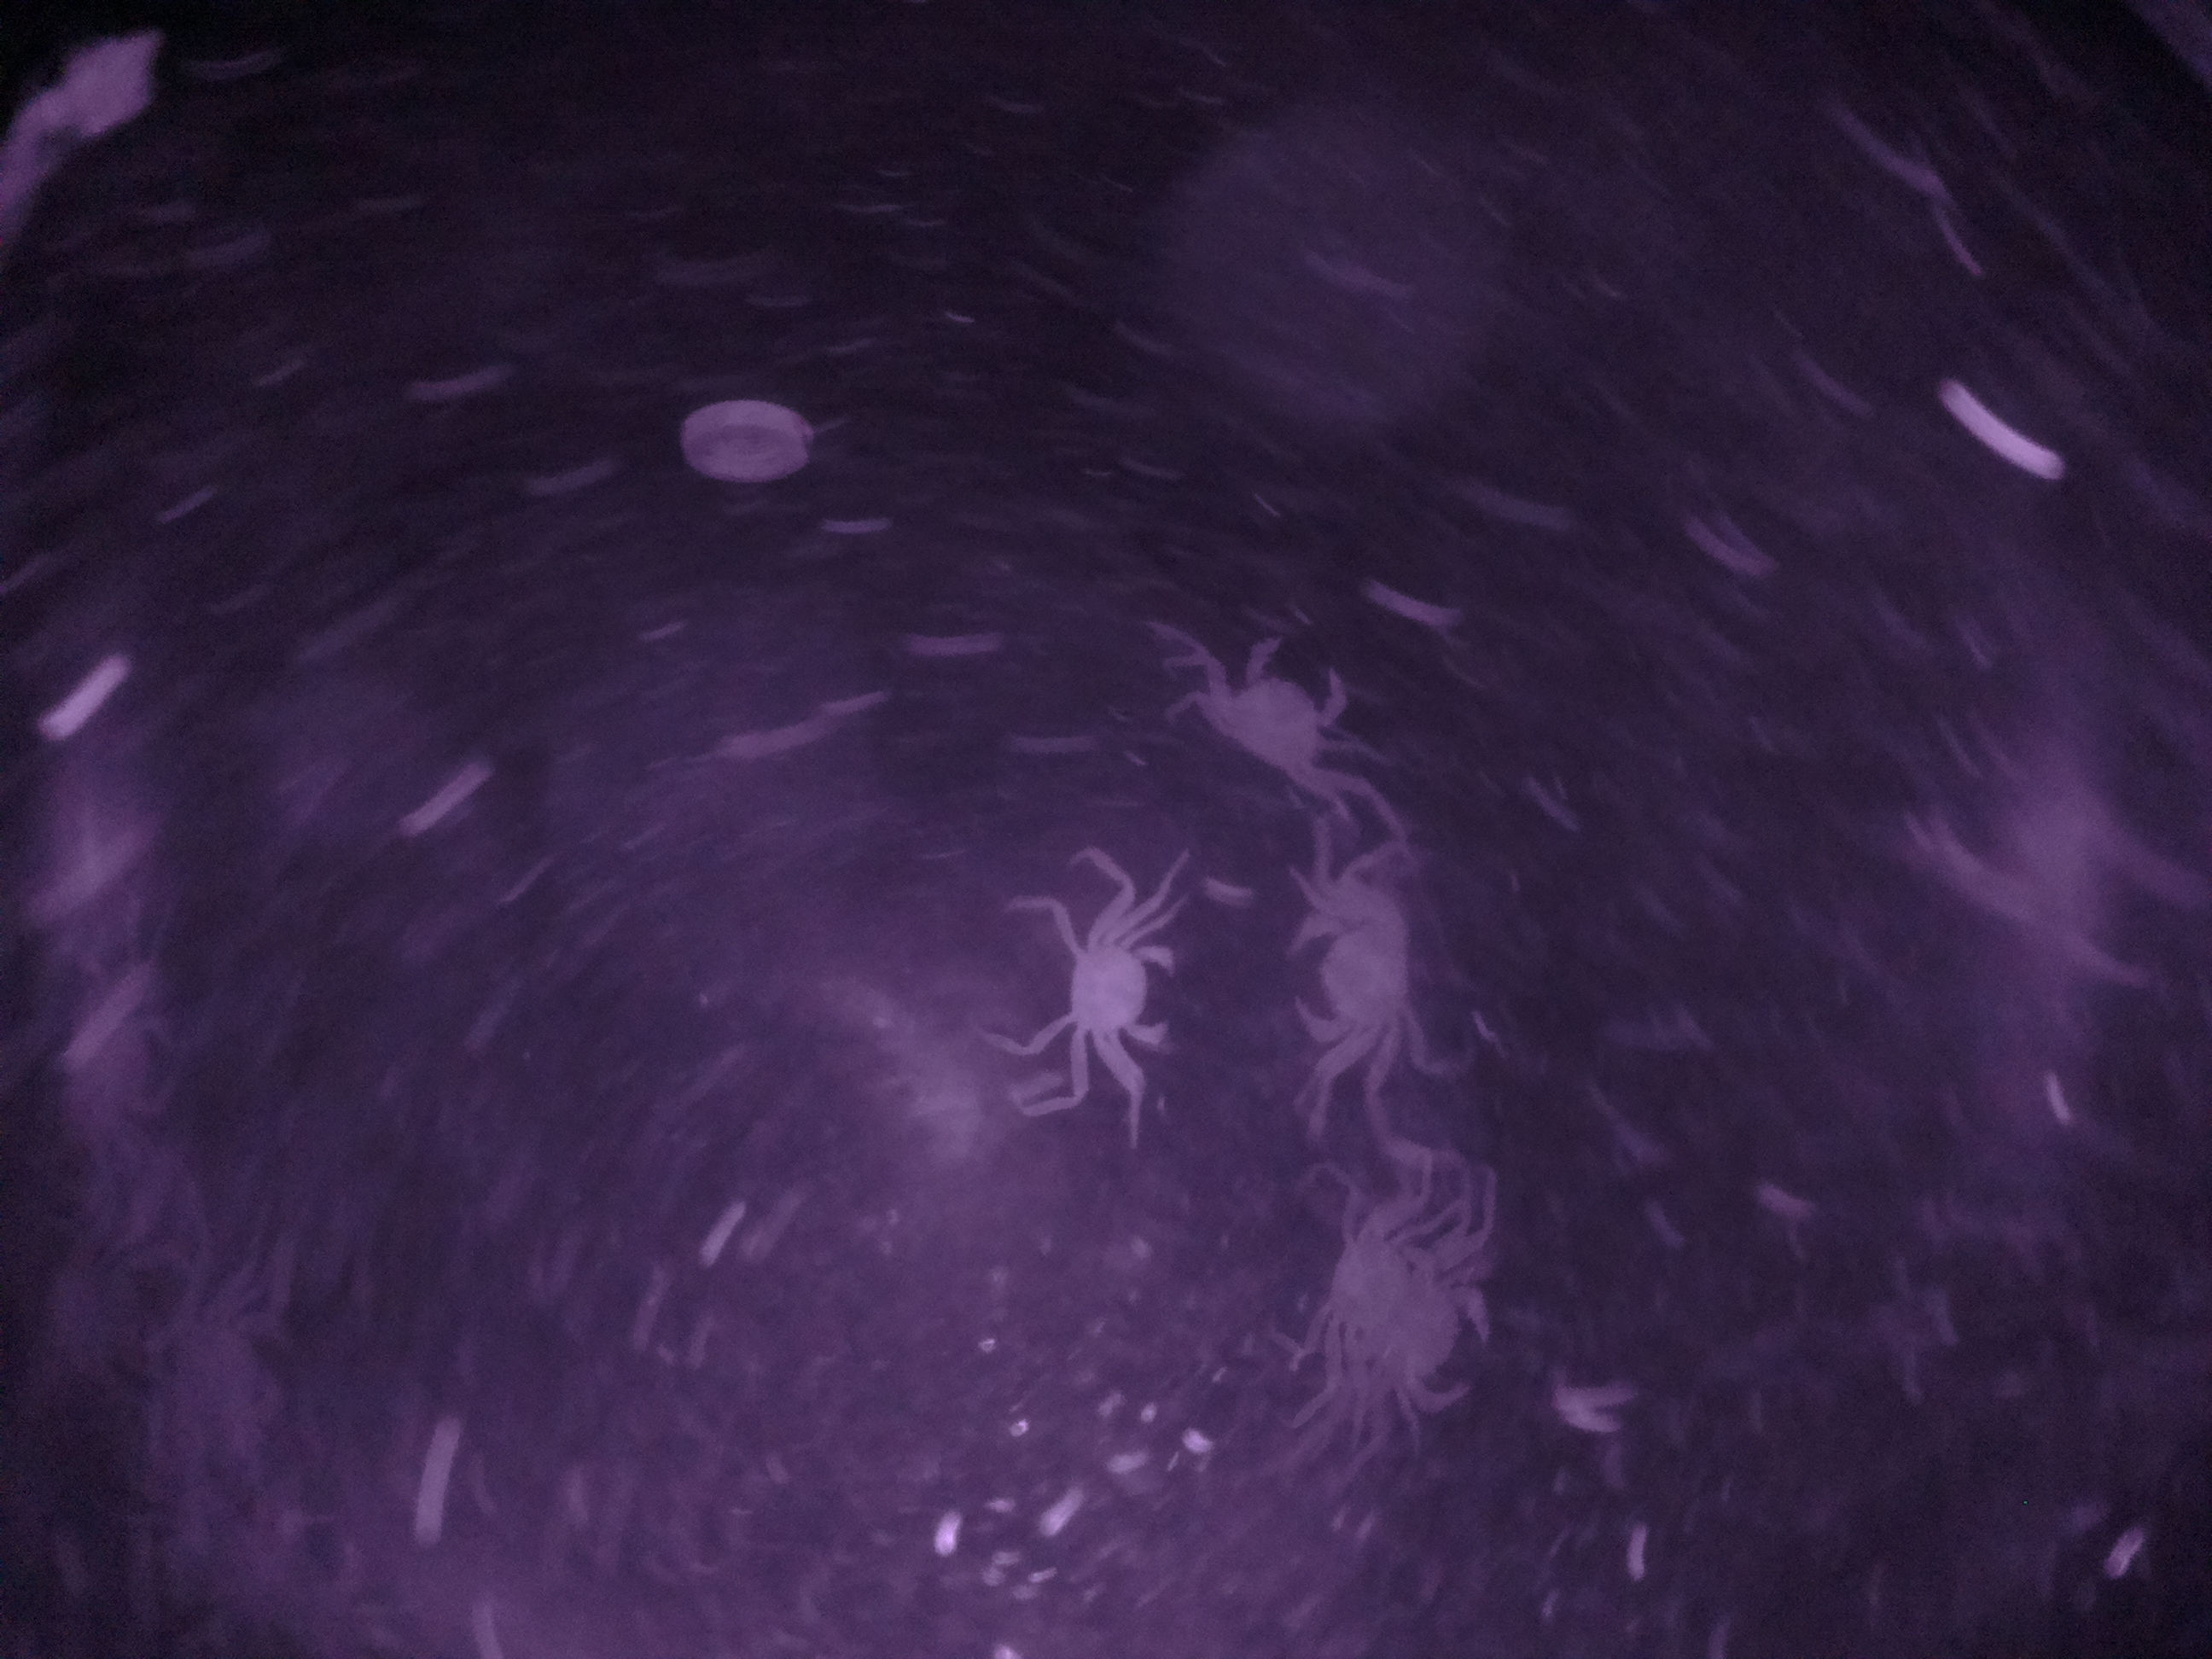Crab: (1252, 859, 1449, 1073), (1177, 620, 1350, 828), (1038, 887, 1200, 1107)
